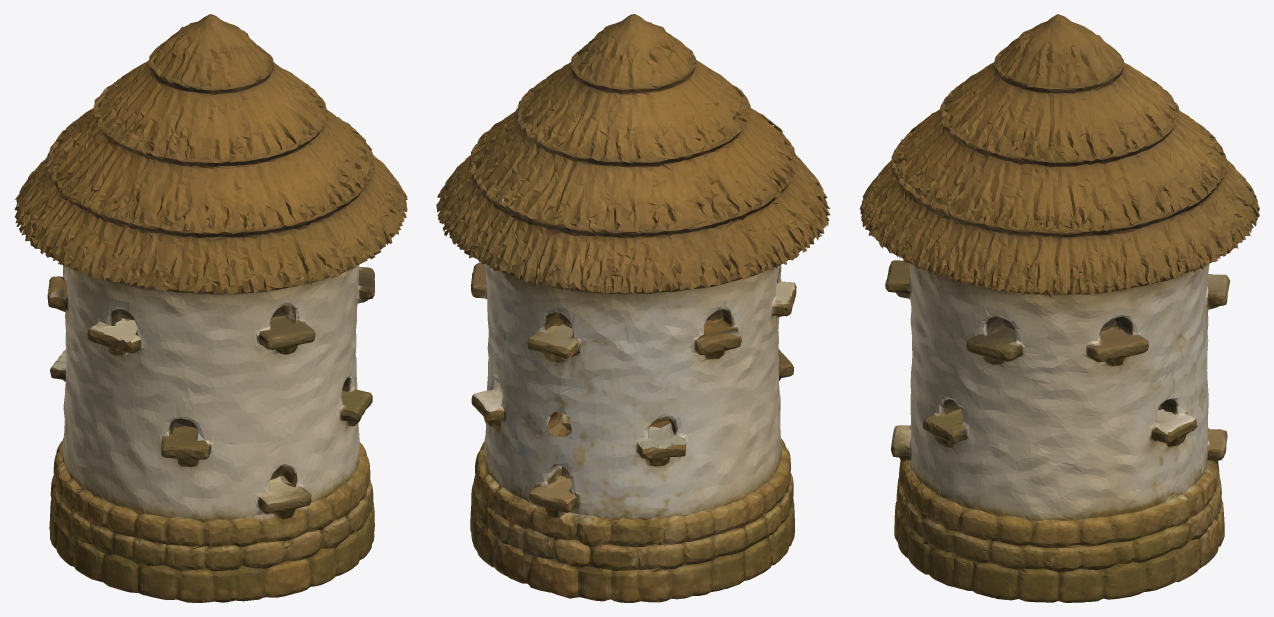
File: wc-dovecote-paint.glb
The picture shows the model from 3 angles, left to right: view 1: azimuth 30°, elevation 25°; view 2: azimuth 150°, elevation 25°; view 3: azimuth 270°, elevation 25°; orthographic projection.
Parts seen in each view (by area): view 1: geometry_0; view 2: geometry_0; view 3: geometry_0.
Part boxes in pixels (box(x1,y1,x2,y2)): geometry_0: box(14, 14, 407, 602); geometry_0: box(436, 14, 829, 602); geometry_0: box(859, 14, 1259, 602).
Bounding box in the file's own units: 1.37 × 2 × 1.39.
Materials: 1 (1 with a texture image).
